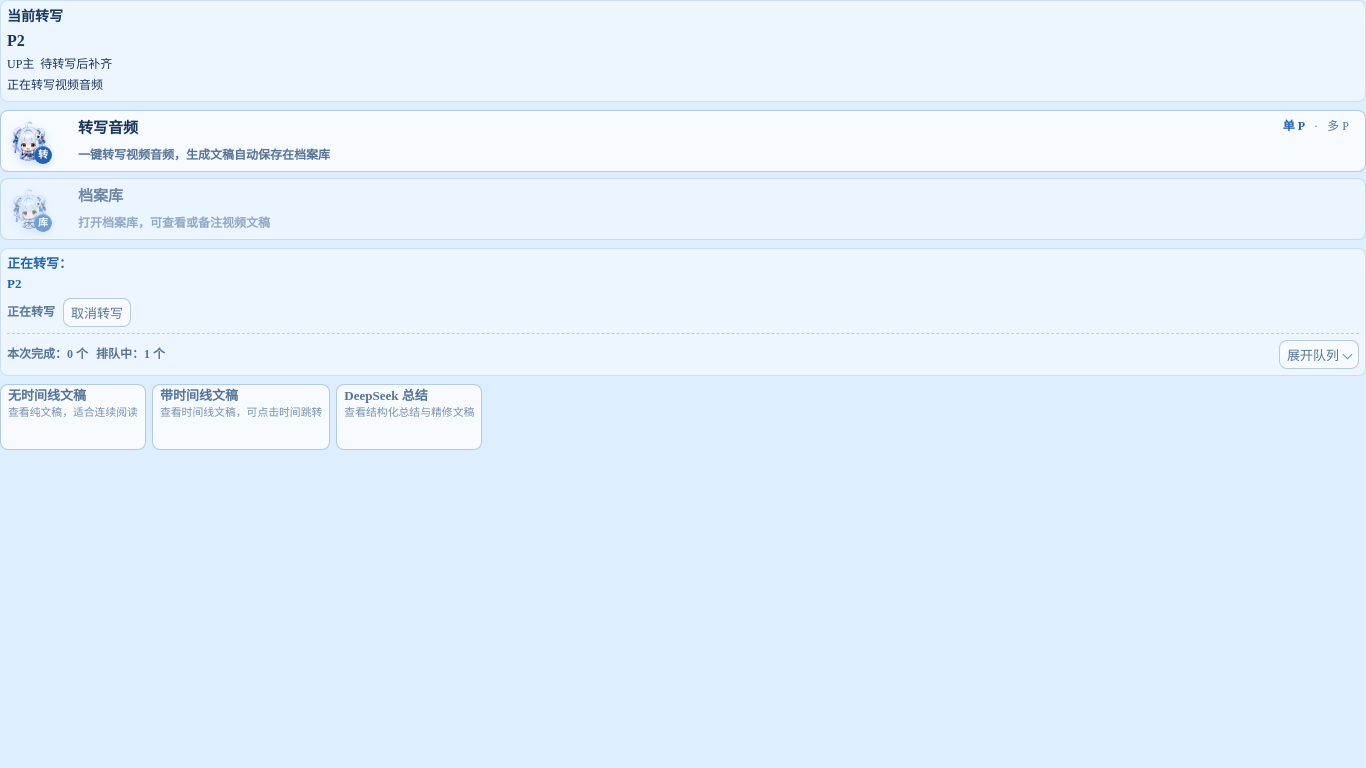
Test: VideoNotesPanel › disables 全选 when every multipart row is already busy
What coordinates should you click on to do the following:
click the button "多 P"
I would click on:
 (1338, 126)
Its box is [1320,114,1356,138].
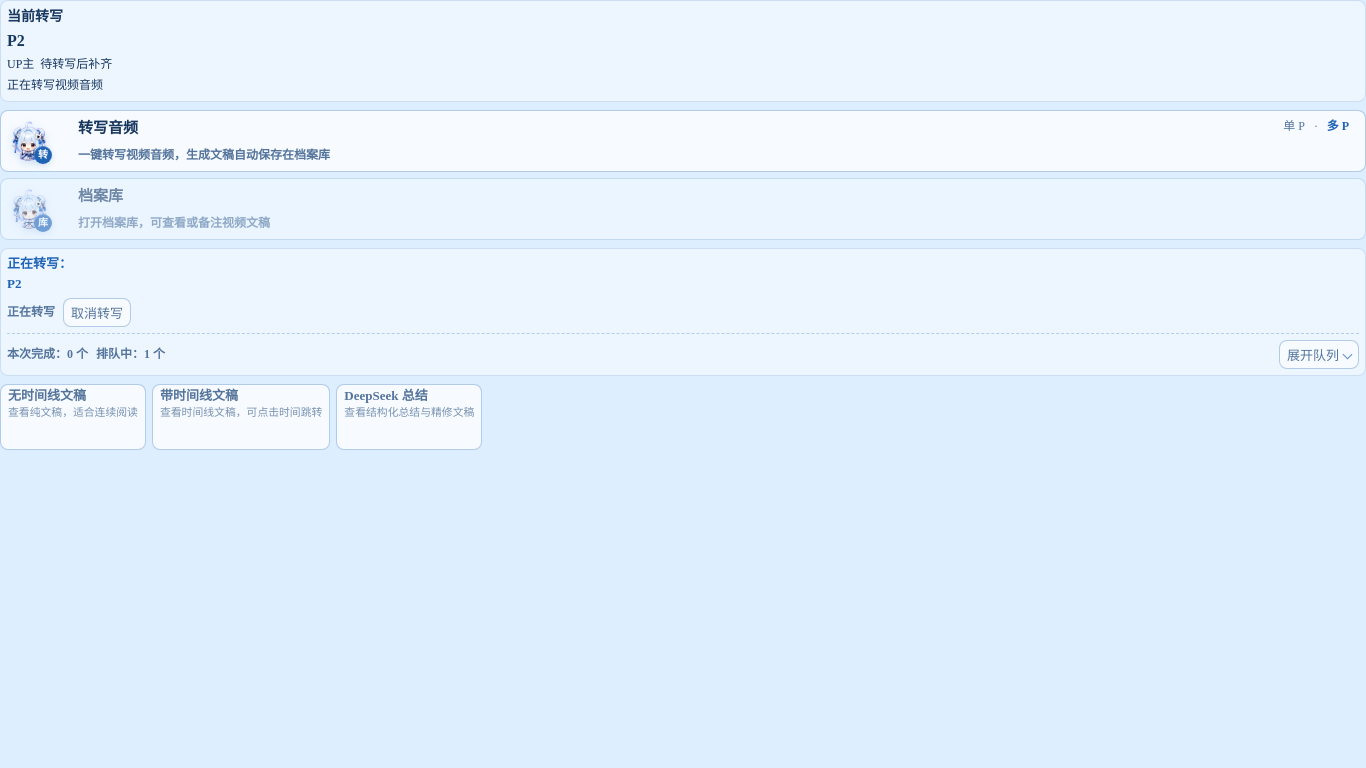
What coordinates should you click on to do the following:
click the button "转 转写音频 一键转写视频音频，生成文稿自动保存在档案库"
I would click on:
 (29, 141)
Its box is [0,110,1365,172].
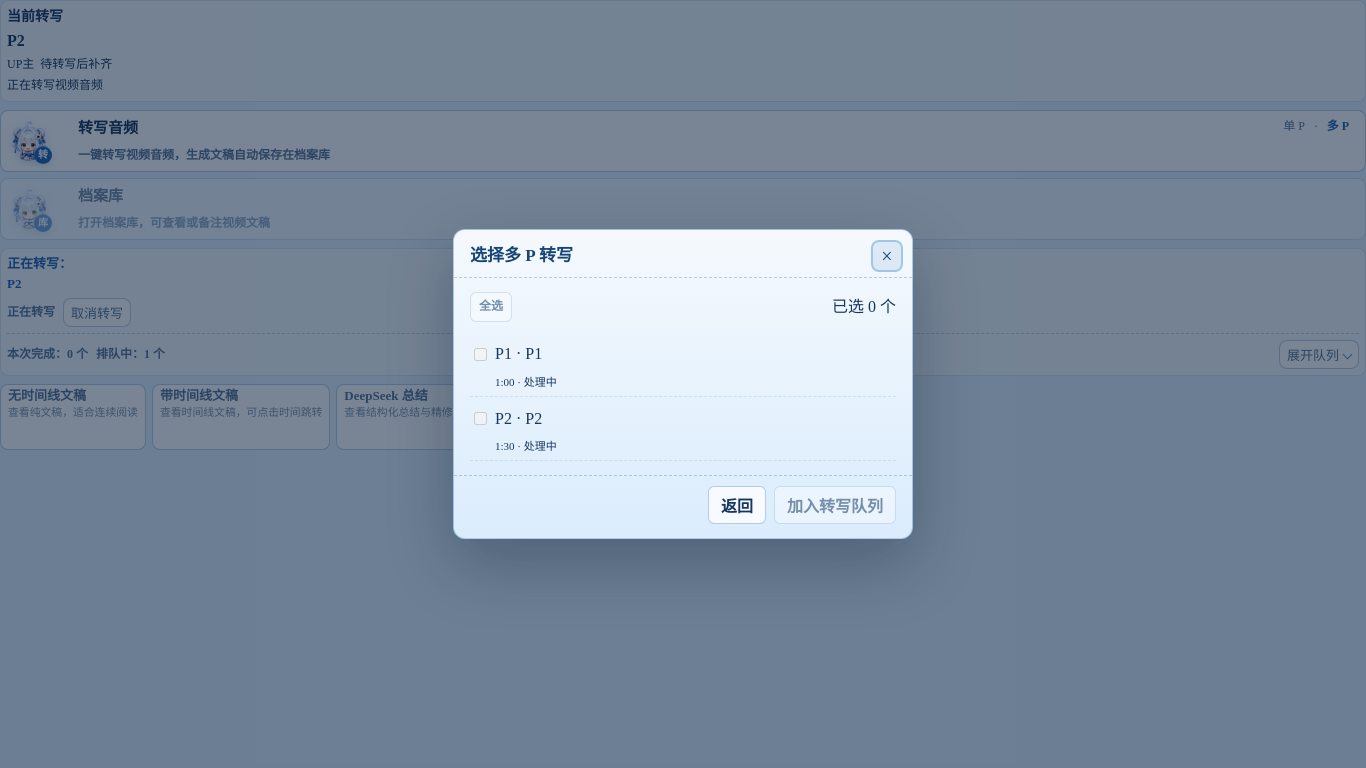
Check: the dialog "选择多 P 转写" is shown, box [453,229,913,539]
Check: the button "全选" is disabled, box [470,292,512,322]
